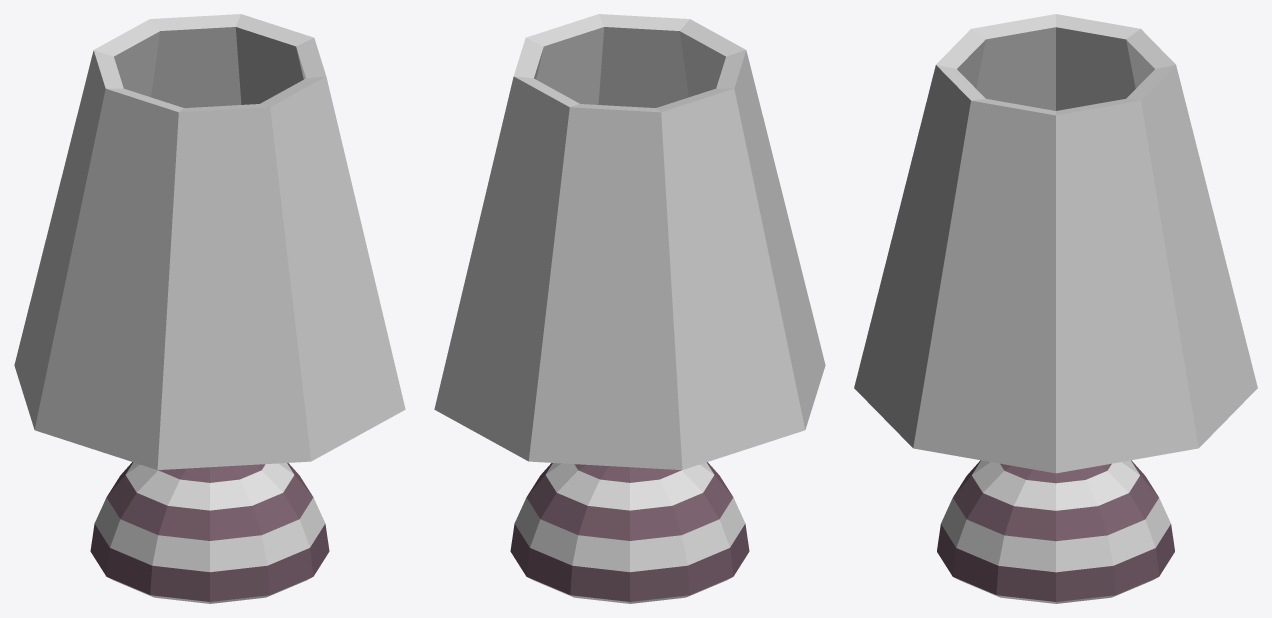
File: ABAJORE.fbx
3 renders of one model, left to right at view 1: azimuth 30°, elevation 25°; view 2: azimuth 150°, elevation 25°; view 3: azimuth 270°, elevation 25°, orthographic.
Visible parts, largest first — view 1: Sphere; view 2: Sphere; view 3: Sphere.
Part boxes in pixels (x1,y1,x2,y2): Sphere: (14,14,405,603); Sphere: (434,14,825,603); Sphere: (854,14,1257,603).
Bounding box in the file's own units: 97.37 × 131 × 97.37.
